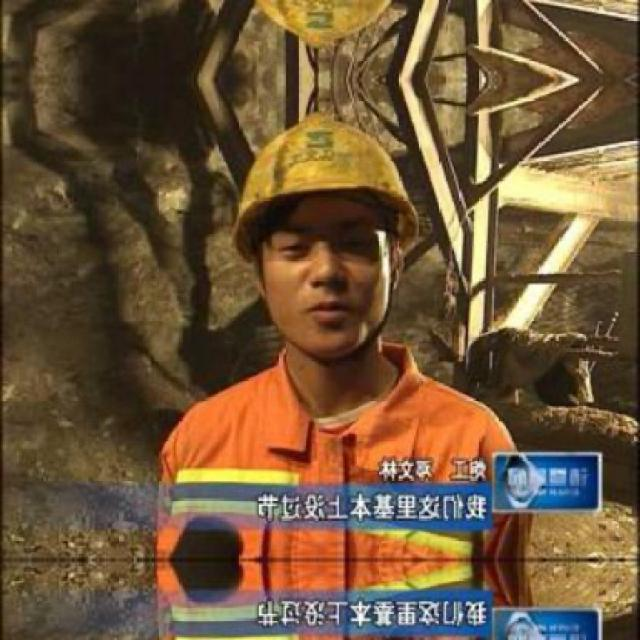helmet: (214, 100, 443, 380), (213, 0, 444, 62)
